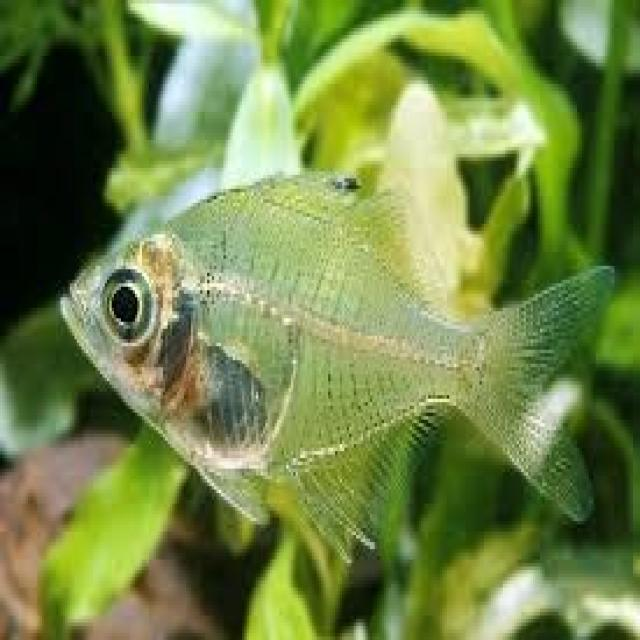Glass-Perchlet: (54, 110, 635, 558)
